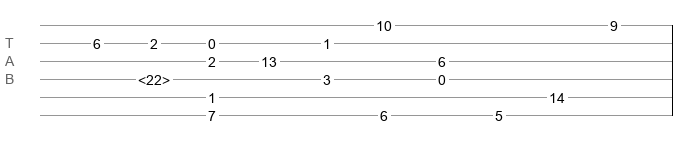0: (208, 36, 216, 46), (438, 72, 446, 82)
1: (208, 90, 216, 100), (323, 36, 331, 46)
10: (376, 18, 392, 28)
13: (261, 54, 277, 64)
14: (549, 90, 565, 100)
2: (150, 36, 158, 46), (208, 54, 216, 64)
3: (323, 72, 331, 82)
5: (495, 108, 503, 118)
6: (93, 36, 101, 46), (380, 108, 388, 118), (438, 54, 446, 64)
7: (208, 108, 216, 118)
9: (610, 18, 618, 28)
harmonic: (138, 72, 170, 82)
